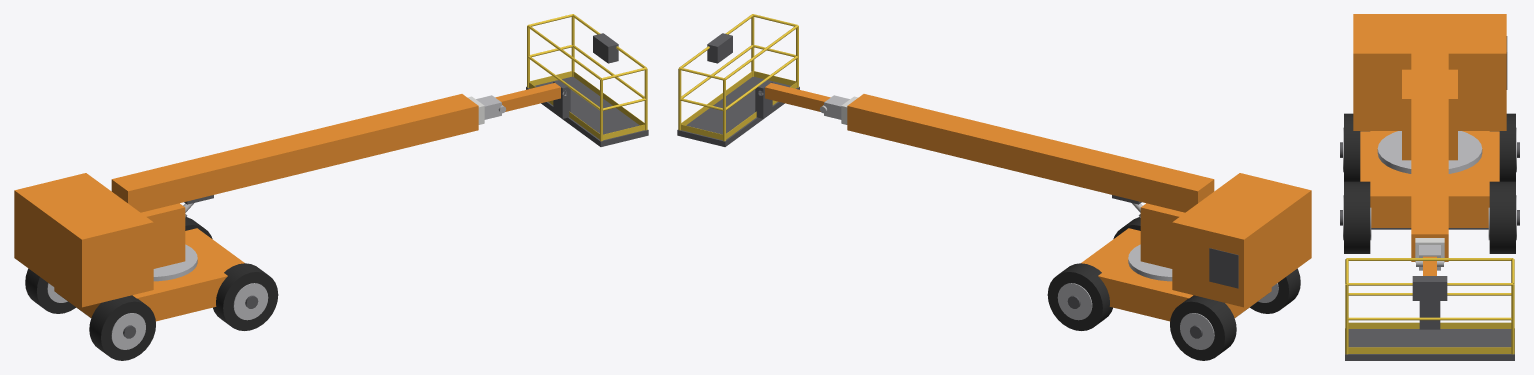
Rendered from SM_BoomLift.fbx.
The picture shows the model from 3 angles, left to right: view 1: azimuth 30°, elevation 25°; view 2: azimuth 150°, elevation 25°; view 3: azimuth 270°, elevation 25°; orthographic projection. The views are drawn at different scales.
Parts seen in each view (by area): view 1: BL_Turntable, BL_Boom_Base, BL_Platform, BL_Chassis, BL_Wheel_RR, BL_Wheel_FR, BL_Wheel_RL, BL_Jib; view 2: BL_Turntable, BL_Boom_Base, BL_Platform, BL_Chassis, BL_Wheel_RL, BL_Wheel_FL, BL_Wheel_RR, BL_Jib; view 3: BL_Turntable, BL_Platform, BL_Boom_Base, BL_Chassis, BL_Wheel_FL, BL_Wheel_FR, BL_Wheel_RL, BL_Wheel_RR, BL_Boom_Tele2, BL_Boom_Tele1, BL_Jib.
Part boxes in pixels (x1,y1,x2,y2): BL_Turntable: [14, 173, 197, 307]; BL_Boom_Base: [111, 94, 478, 212]; BL_Platform: [526, 14, 648, 146]; BL_Chassis: [54, 228, 244, 321]; BL_Wheel_RR: [89, 295, 155, 360]; BL_Wheel_FR: [213, 263, 278, 330]; BL_Wheel_RL: [25, 268, 75, 313]; BL_Jib: [495, 83, 566, 111]; BL_Turntable: [1128, 173, 1311, 307]; BL_Boom_Base: [847, 94, 1214, 212]; BL_Platform: [677, 14, 799, 146]; BL_Chassis: [1081, 228, 1271, 321]; BL_Wheel_RL: [1170, 295, 1236, 360]; BL_Wheel_FL: [1047, 263, 1112, 330]; BL_Wheel_RR: [1250, 268, 1300, 313]; BL_Jib: [758, 83, 830, 111]; BL_Turntable: [1353, 14, 1507, 173]; BL_Platform: [1345, 258, 1514, 360]; BL_Boom_Base: [1411, 40, 1448, 261]; BL_Chassis: [1360, 131, 1499, 229]; BL_Wheel_FL: [1488, 181, 1519, 253]; BL_Wheel_FR: [1340, 181, 1371, 253]; BL_Wheel_RL: [1490, 113, 1519, 181]; BL_Wheel_RR: [1340, 113, 1369, 181]; BL_Boom_Tele2: [1416, 245, 1443, 270]; BL_Boom_Tele1: [1415, 238, 1444, 262]; BL_Jib: [1423, 256, 1436, 275].
Size of the model in its own units: 1060 by 300 by 258.
